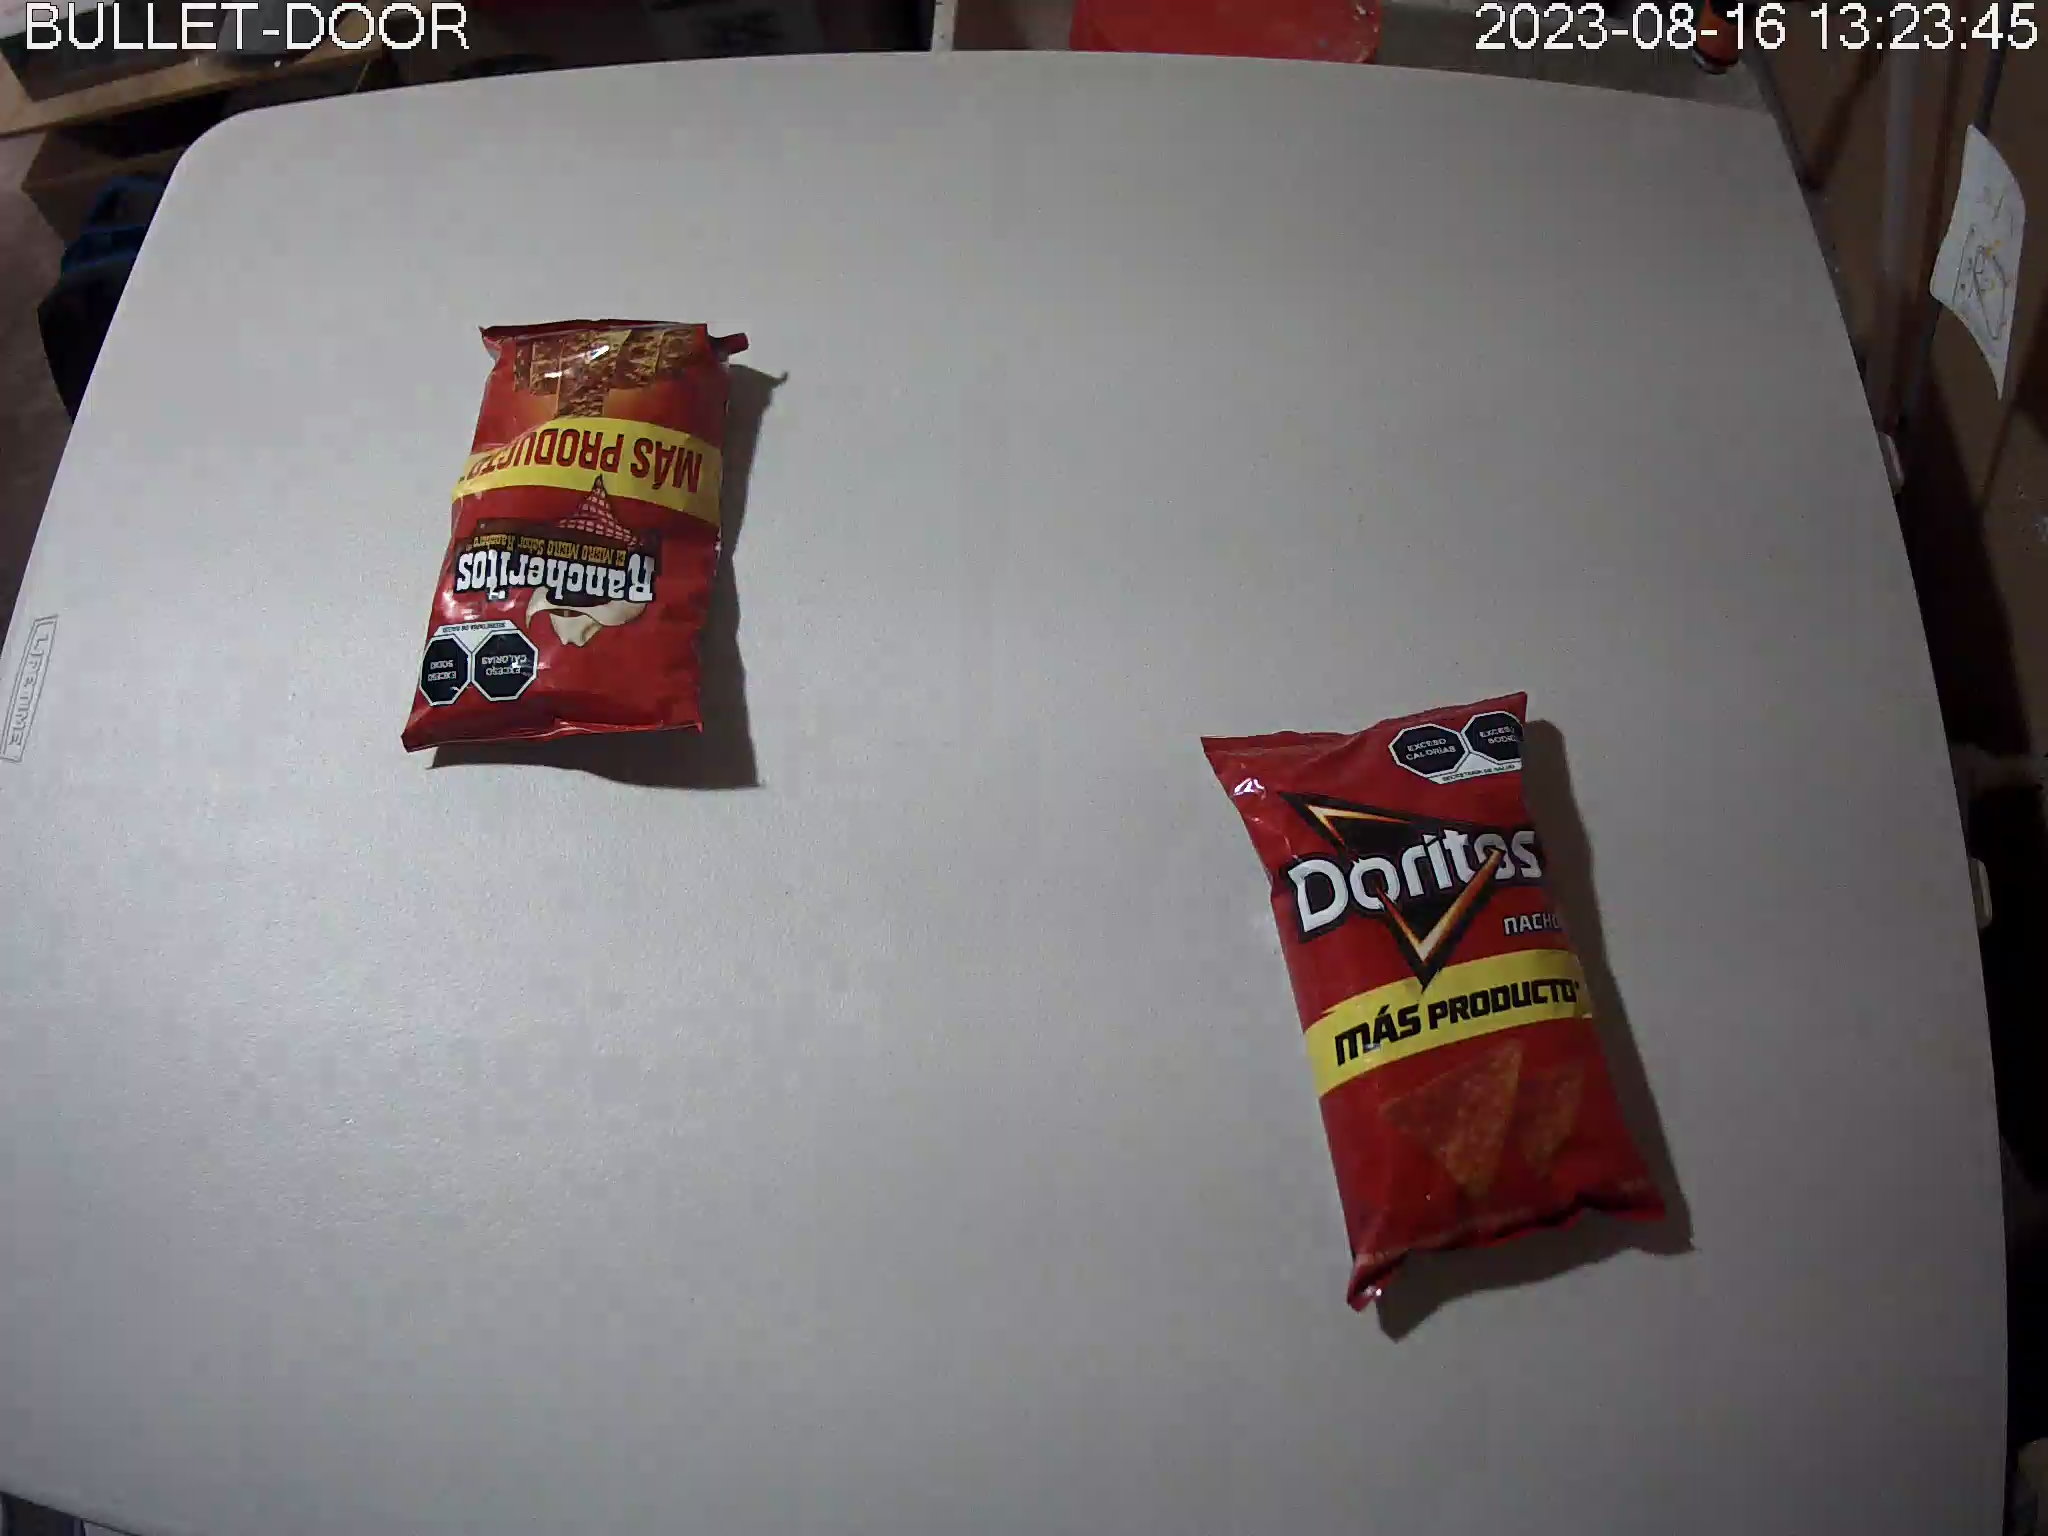DoritosN_61_F: (1200, 691, 1672, 1312)
Rancheritos_58_F: (402, 318, 753, 753)
